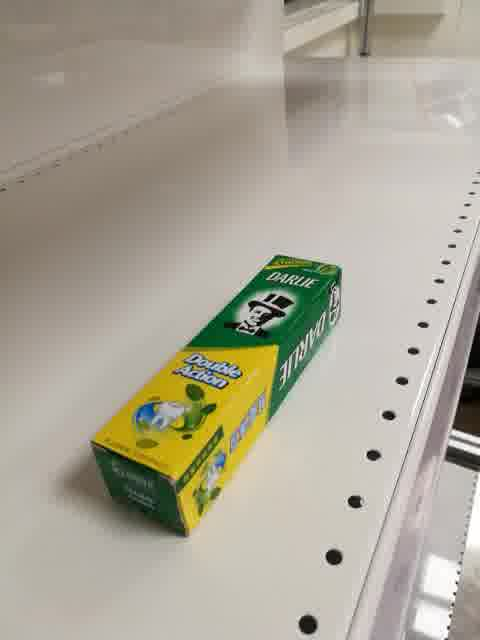toothpaste: (81, 254, 342, 539)
